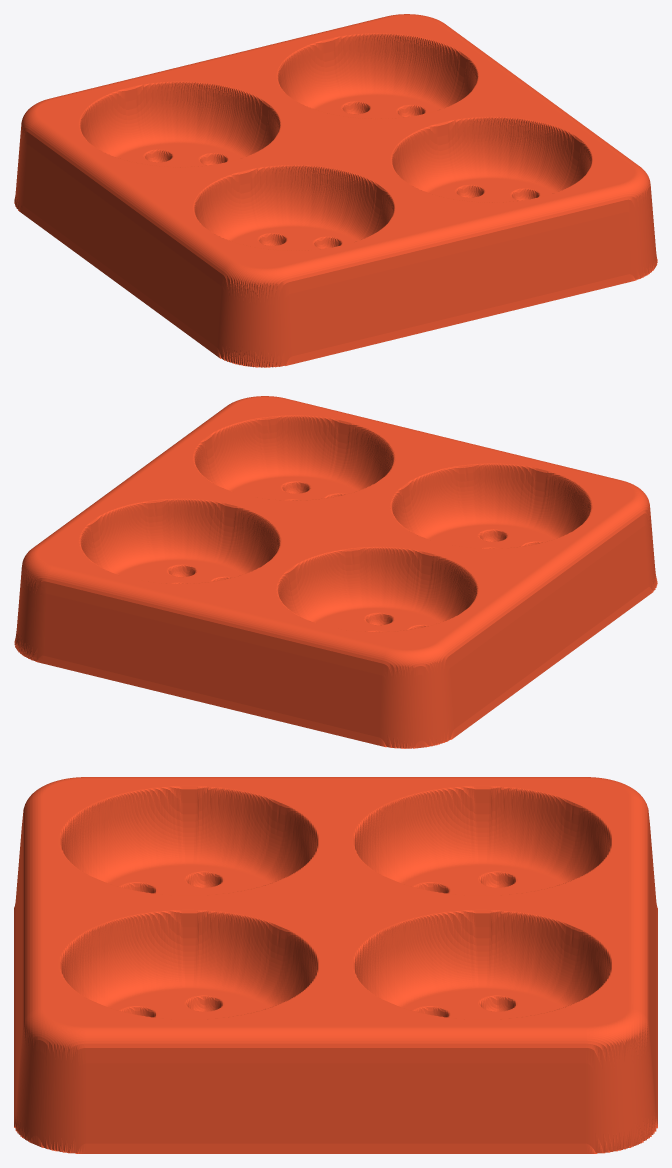
File: mold.glb
3 views of the same model, one above another, from view 1: azimuth 30°, elevation 25°; view 2: azimuth 150°, elevation 25°; view 3: azimuth 270°, elevation 25° (orthographic). The views are drawn at different scales.
Visible parts, largest first — view 1: geometry_0; view 2: geometry_0; view 3: geometry_0.
Boxes of the visible parts, x1,y1,x2,y2 form: geometry_0: (14, 14, 657, 367); geometry_0: (14, 396, 657, 748); geometry_0: (14, 777, 657, 1153).
Bounding box in the file's own units: 0.0808 × 0.0159 × 0.0808.
